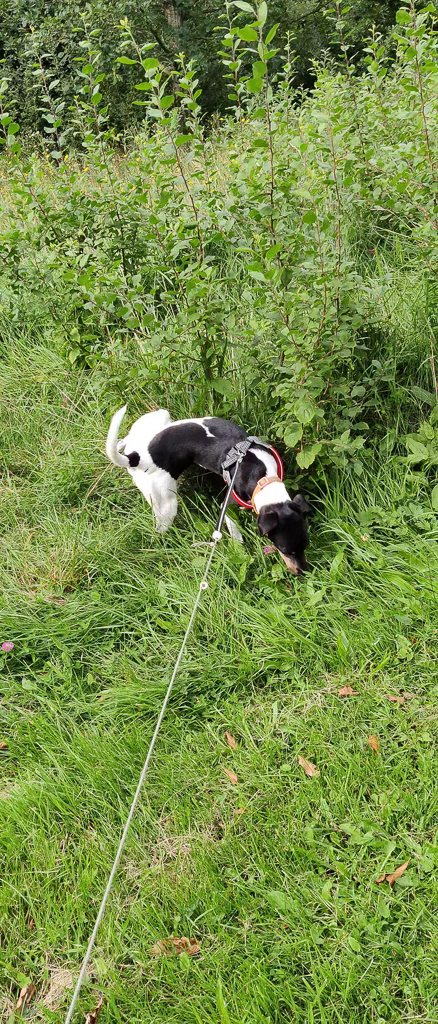Dog: (91, 383, 337, 590)
